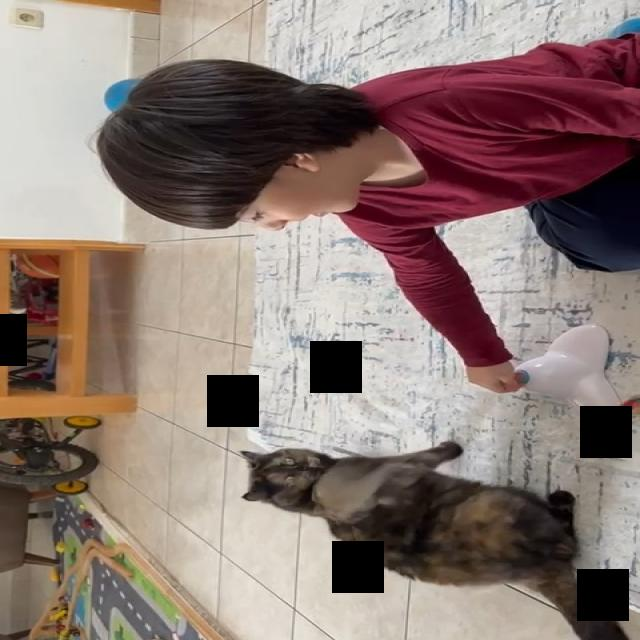authorized: (239, 440, 629, 639)
